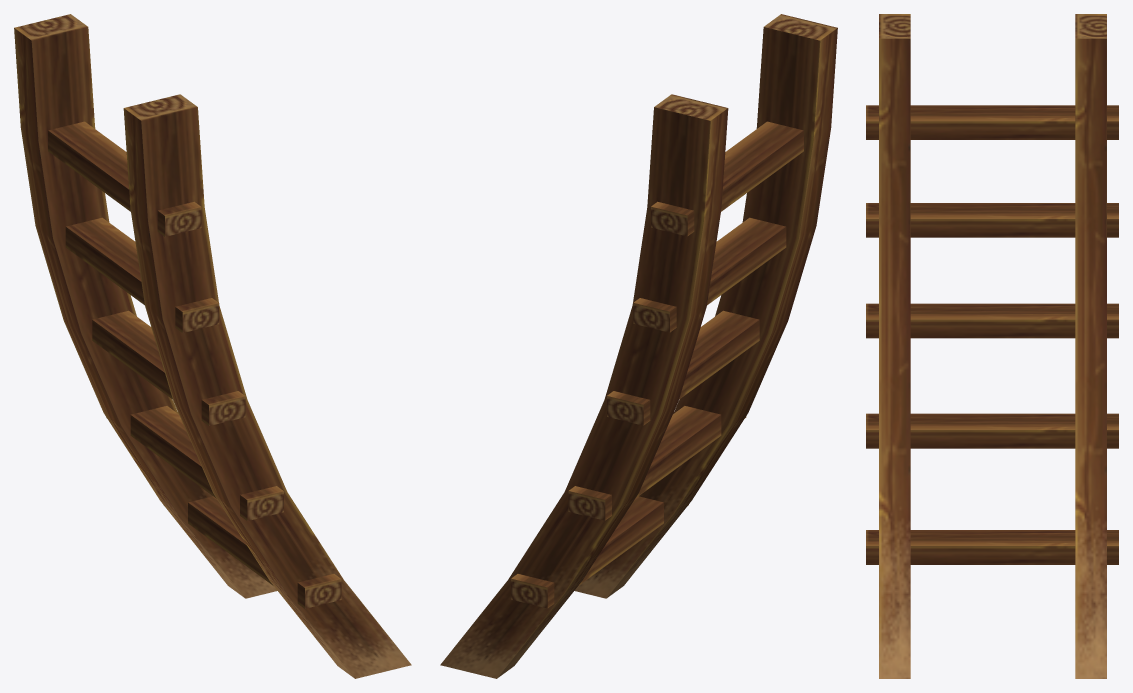
Rendered from futi01.FBX.
3 views of the same model, side by side, from view 1: azimuth 30°, elevation 25°; view 2: azimuth 150°, elevation 25°; view 3: azimuth 270°, elevation 25° (orthographic). The views are drawn at different scales.
Visible parts, largest first — view 1: futi01; view 2: futi01; view 3: futi01.
Boxes of the visible parts, x1=… form: futi01: x1=14, y1=14, x2=411, y2=678; futi01: x1=440, y1=14, x2=837, y2=678; futi01: x1=866, y1=14, x2=1118, y2=678.
Size of the model in its own units: 29.89 by 64.4 by 27.
